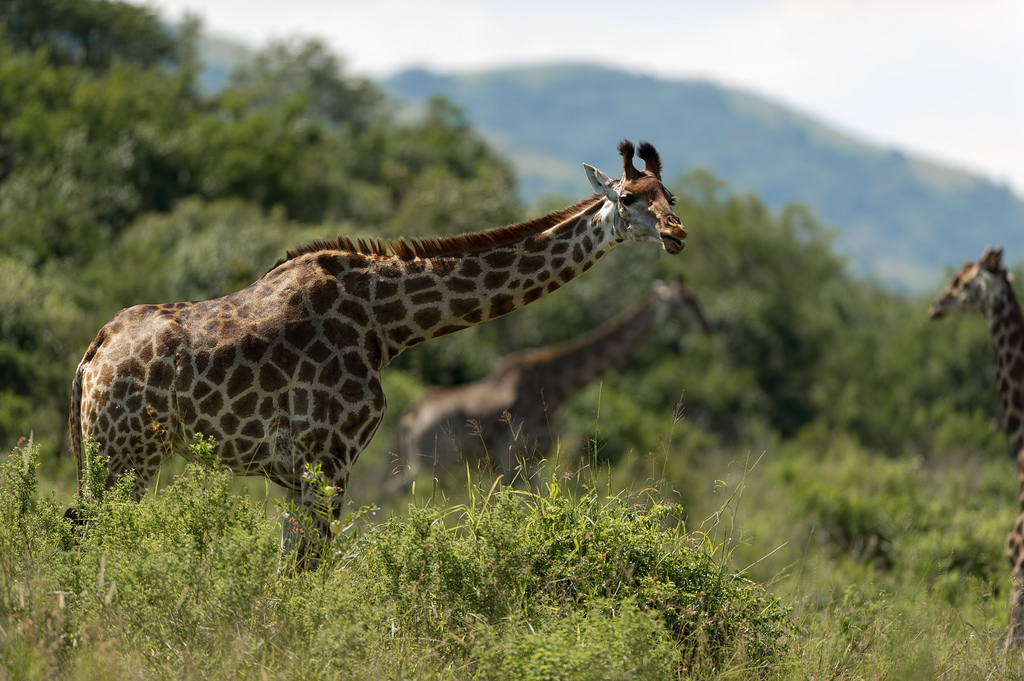giraffe: (68, 129, 694, 525)
